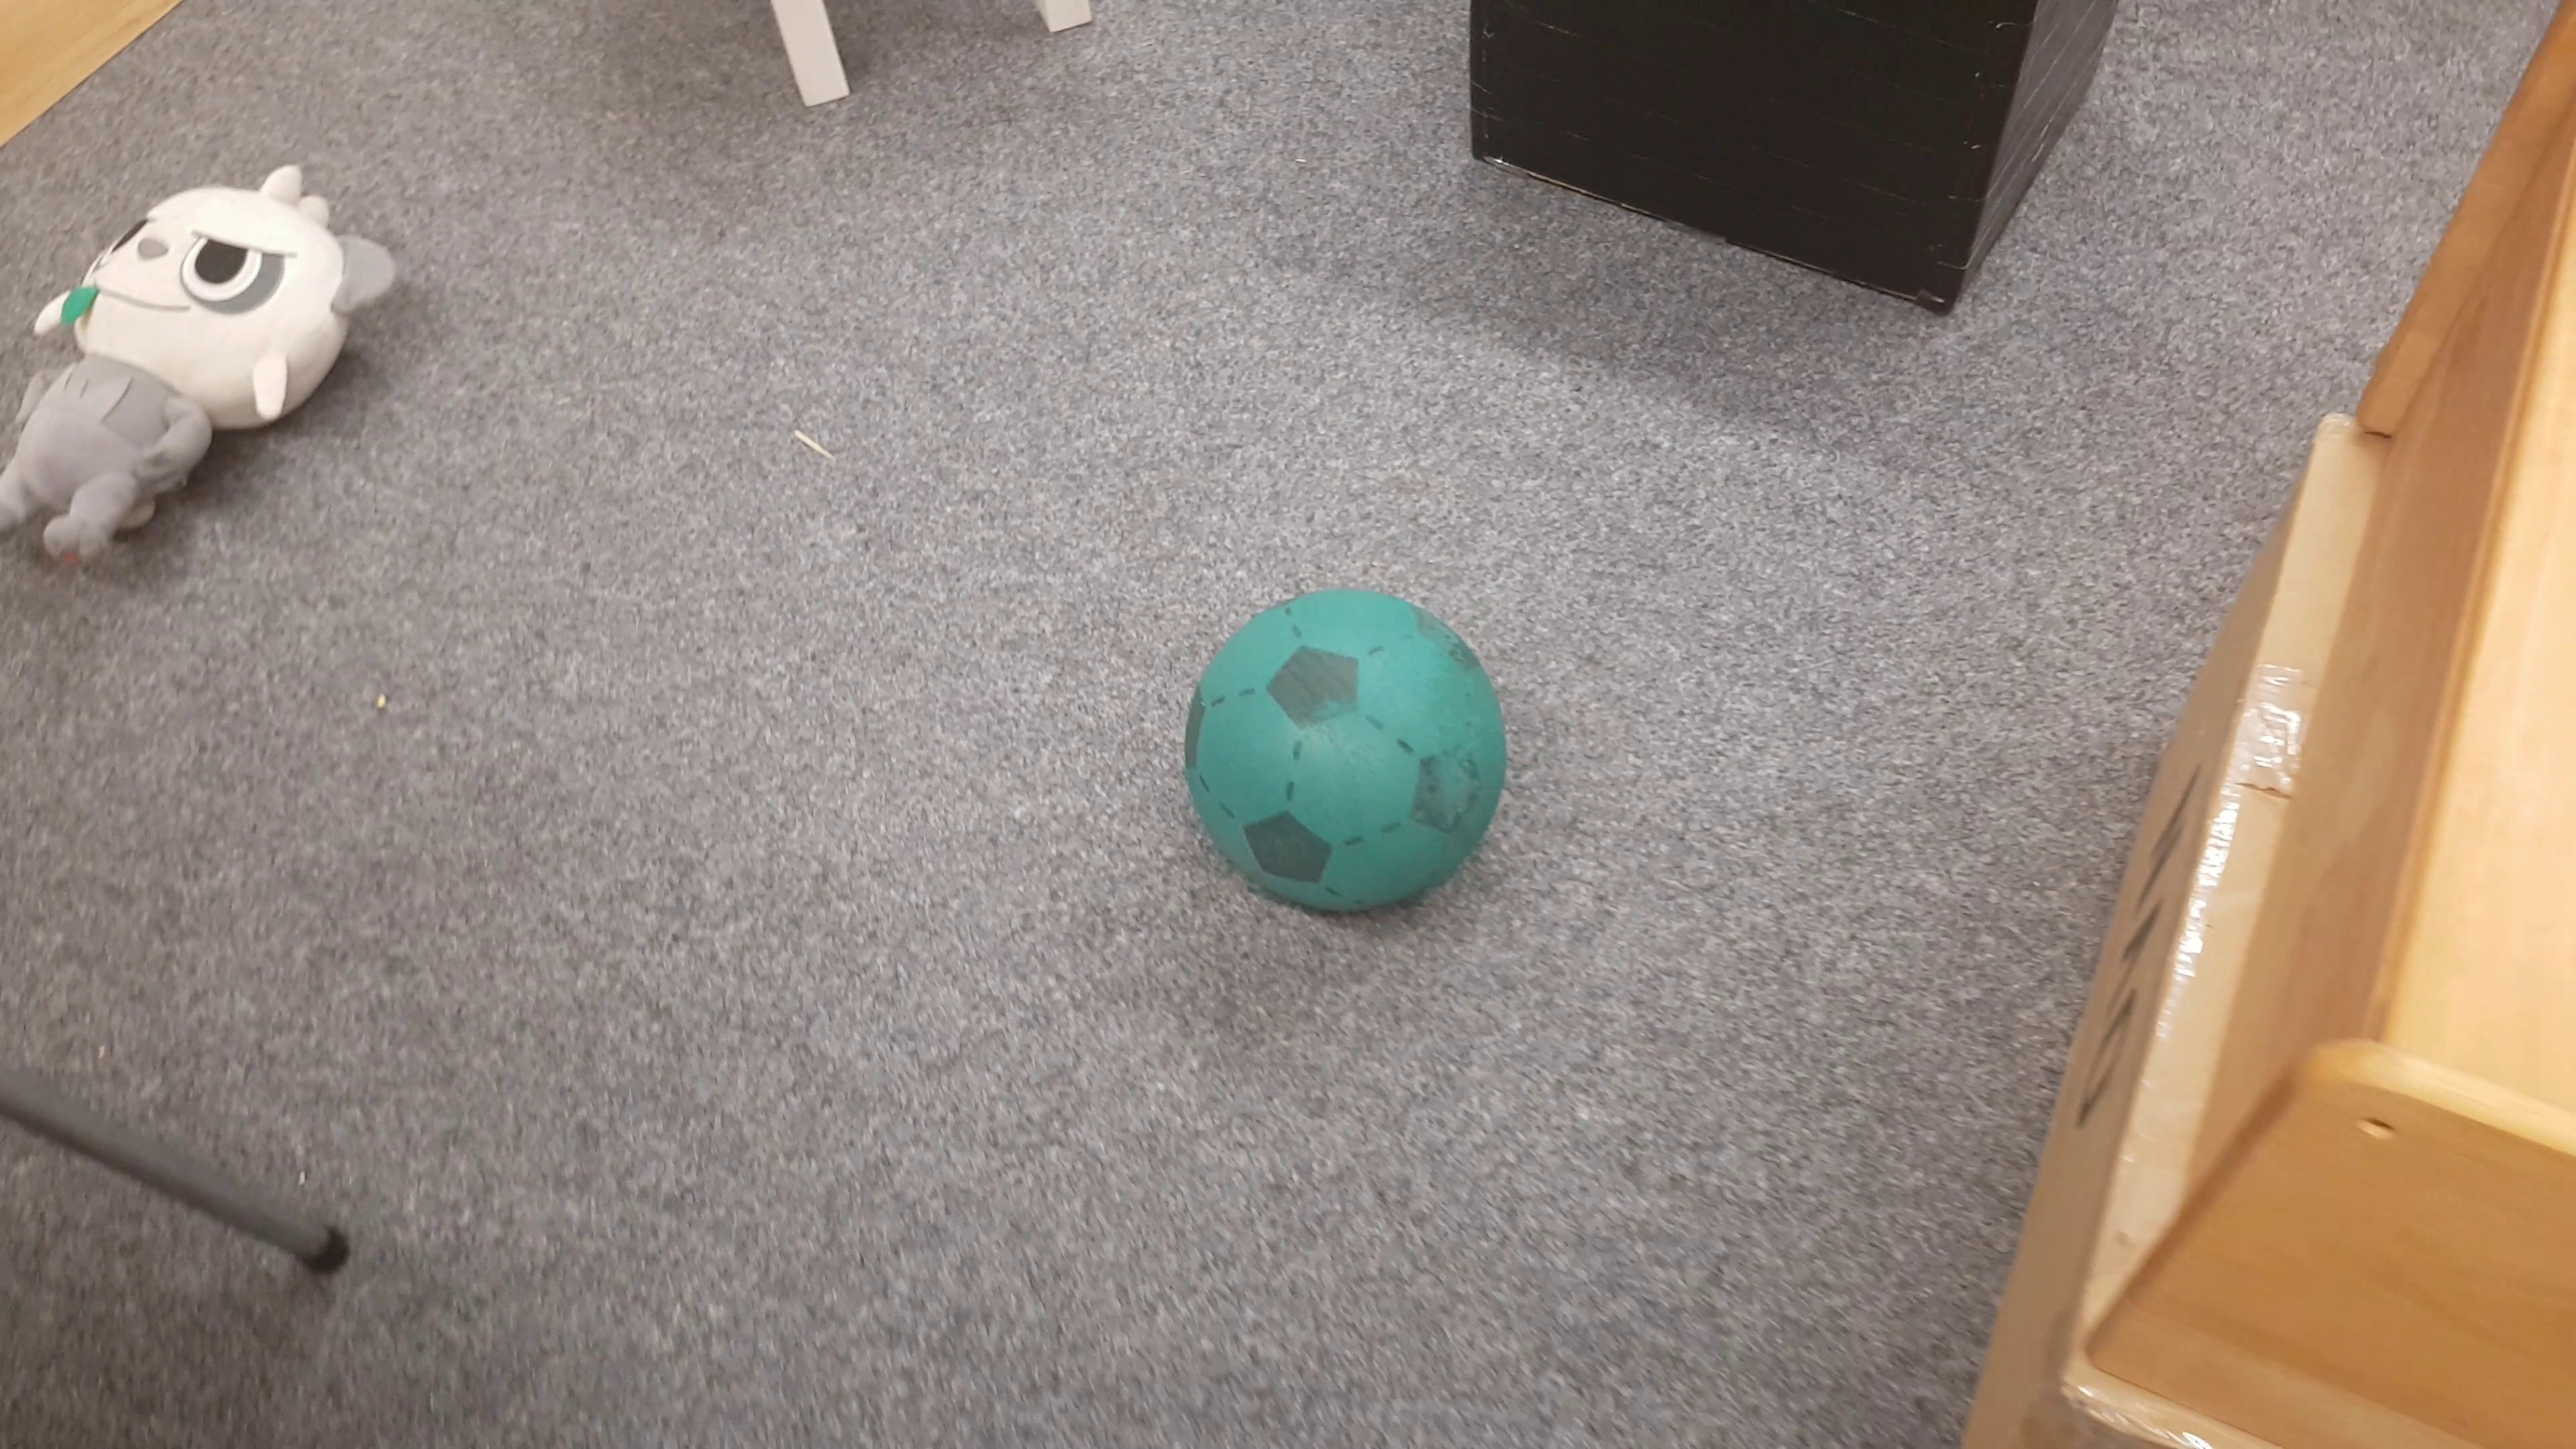grasp: (9, 168, 398, 584)
kick: (1185, 589, 1516, 909)
push: (1465, 2, 2111, 304)
